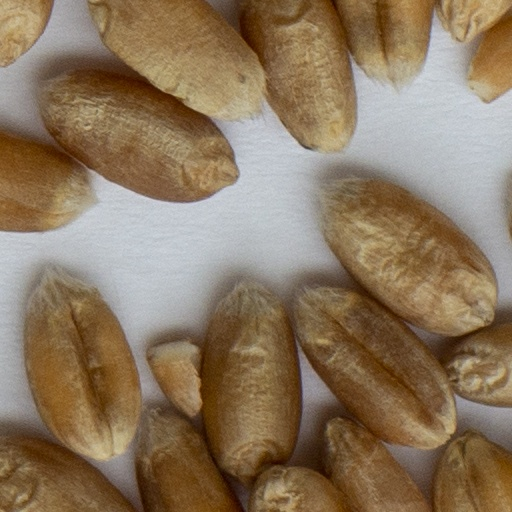Wheat-grain-damaged-poly: (144, 336, 205, 420), (466, 11, 511, 103)
Wheat-grain-poly: (35, 69, 235, 203), (83, 0, 263, 117), (239, 0, 360, 153), (331, 0, 433, 93), (435, 0, 511, 44)
